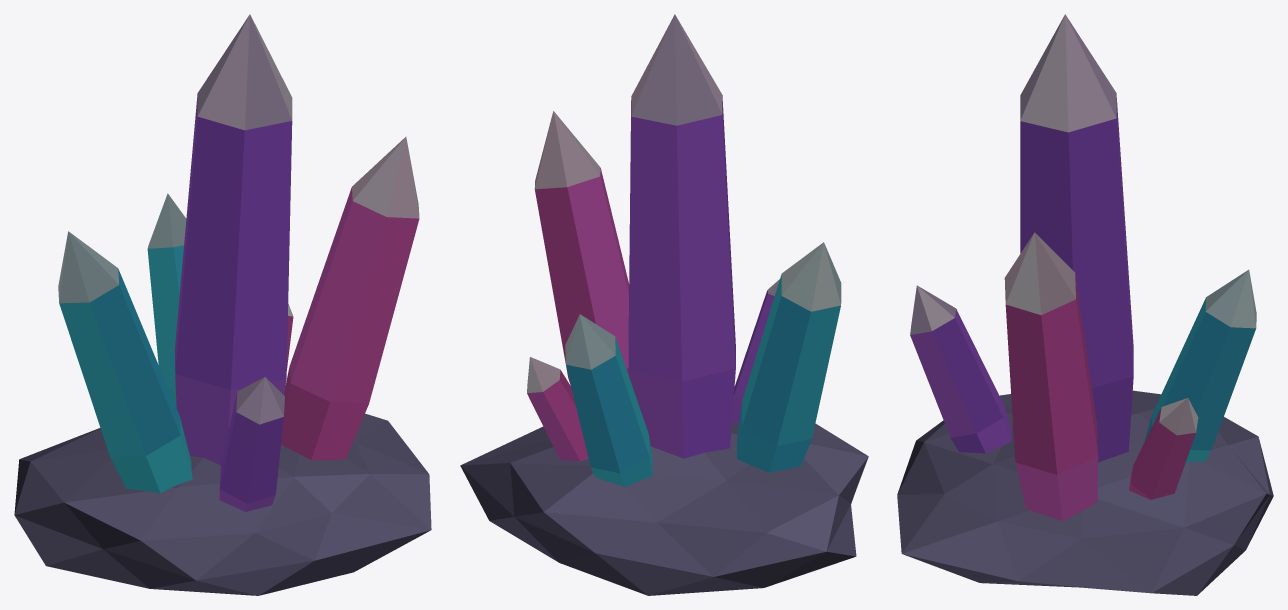
Rendered from crystal.glb.
3 renders of one model, left to right at view 1: azimuth 30°, elevation 25°; view 2: azimuth 150°, elevation 25°; view 3: azimuth 270°, elevation 25°, orthographic. The views are drawn at different scales.
Parts seen in each view (by area): view 1: crystal; view 2: crystal; view 3: crystal.
Boxes of the visible parts, x1,y1,x2,y2 form: crystal: (14,14,431,595); crystal: (460,14,868,595); crystal: (897,14,1273,595).
Size of the model in its own units: 5.07 by 6.85 by 4.32.
2 materials, 2 textured.
